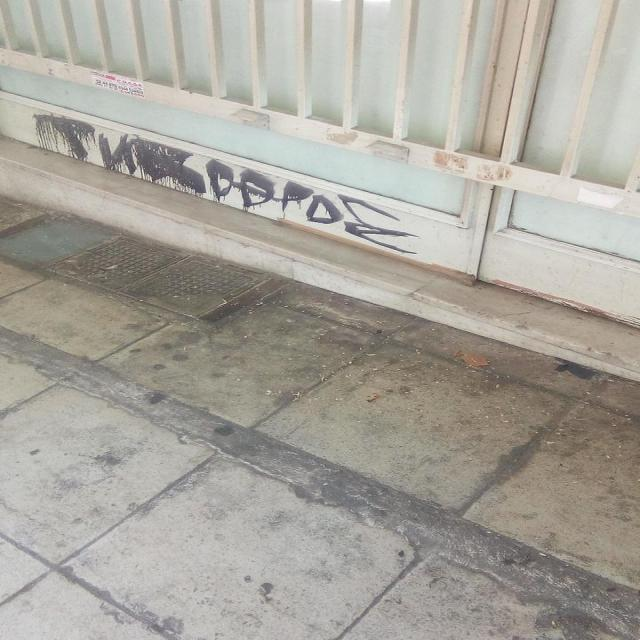nonspitting: (34, 112, 418, 257)
